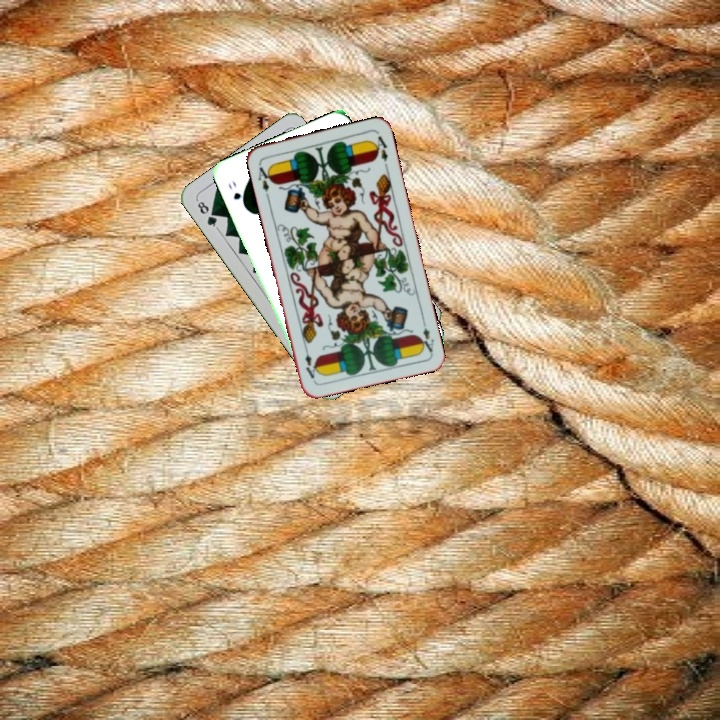EA: (416, 315, 437, 355), (254, 160, 276, 194)
G8: (193, 196, 221, 232)
GO: (224, 176, 248, 210)
